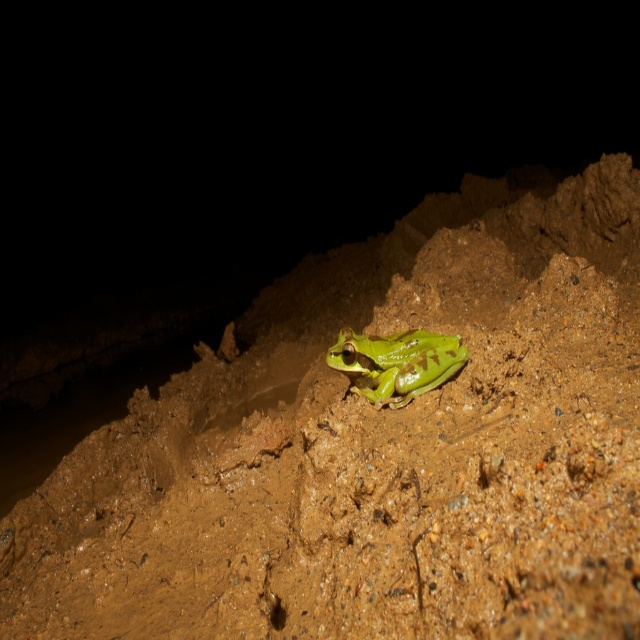Frog: (326, 327, 470, 412)
